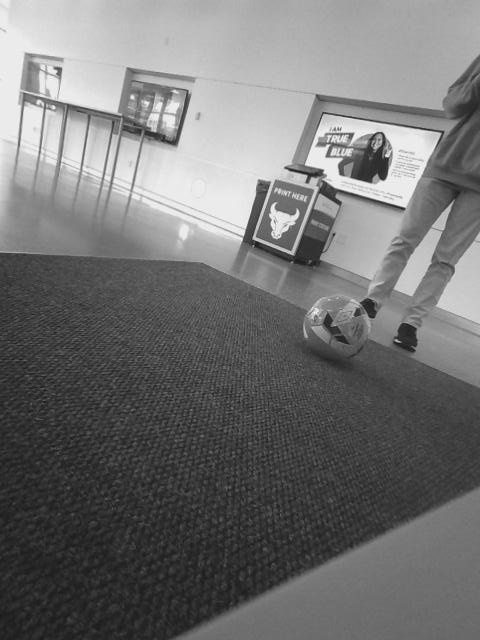ball: (301, 293, 372, 362)
